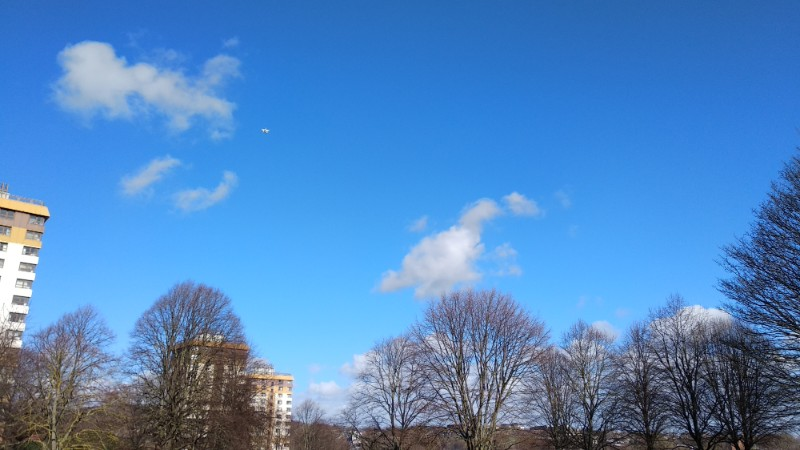drone: (260, 126, 272, 136)
